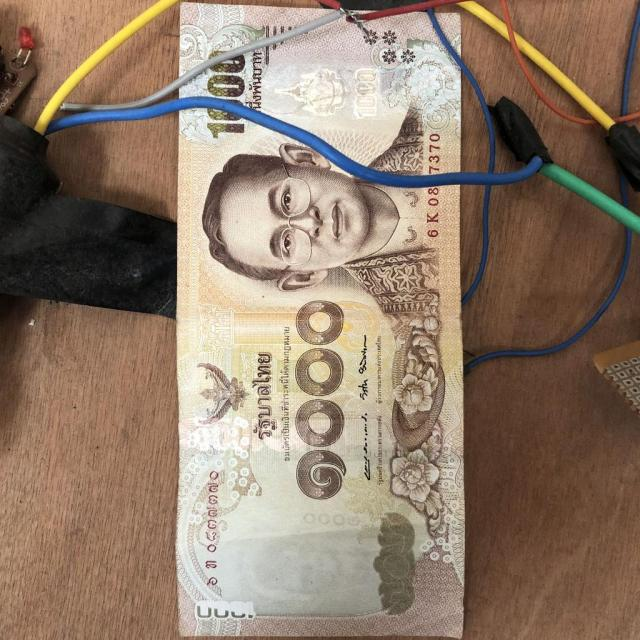THAI1000: (176, 111, 464, 636), (180, 13, 460, 174), (180, 2, 328, 69)
